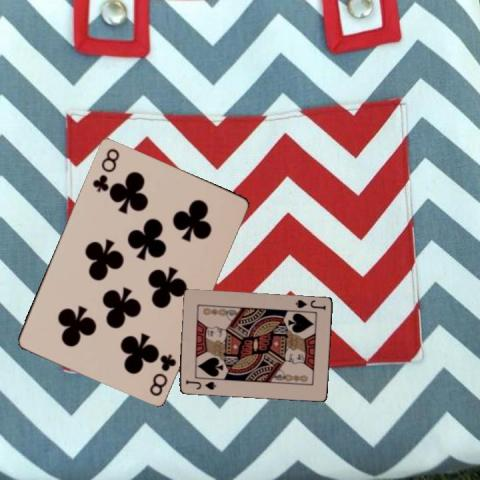8c: (89, 145, 121, 193), (146, 351, 178, 397)
Js: (183, 376, 218, 390), (293, 297, 327, 311)
